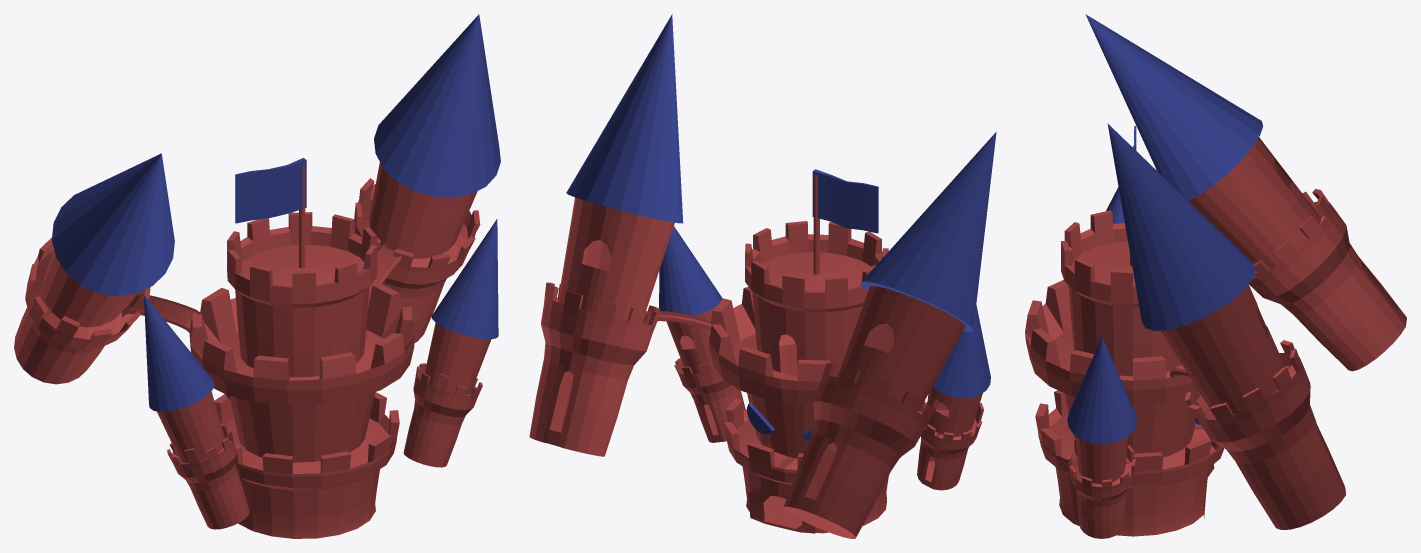
The model's file is boss.fbx.
The picture shows the model from 3 angles, left to right: view 1: azimuth 30°, elevation 25°; view 2: azimuth 150°, elevation 25°; view 3: azimuth 270°, elevation 25°; orthographic projection. The views are drawn at different scales.
Visible parts, largest first — view 1: Boss; view 2: Boss; view 3: Boss.
Boxes of the visible parts, x1=… form: Boss: x1=14, y1=14, x2=500, y2=538; Boss: x1=529, y1=14, x2=996, y2=538; Boss: x1=1025, y1=14, x2=1406, y2=538.
Bounding box in the file's own units: 6.25 × 6.49 × 4.86.
